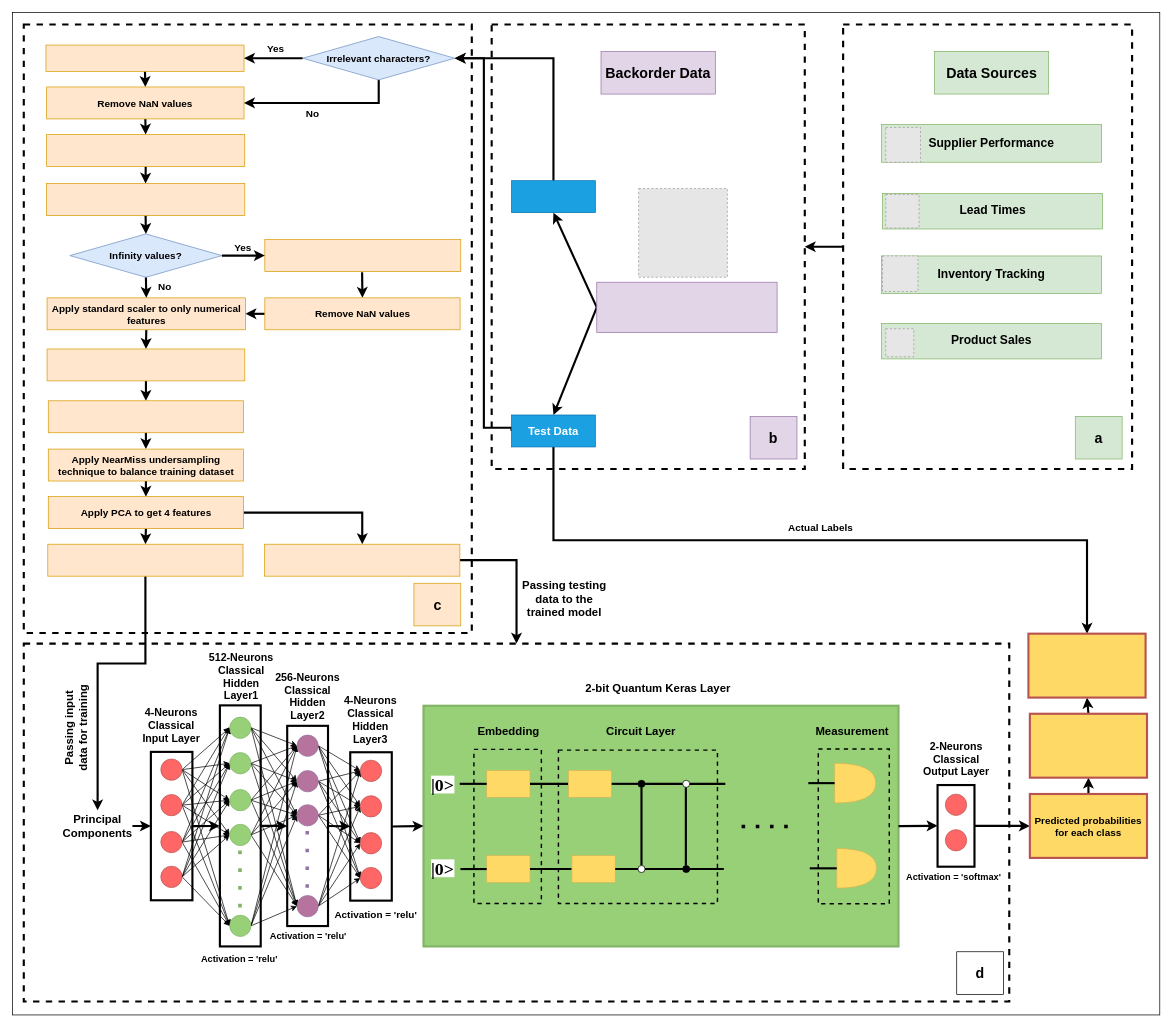
The diagram is 1172 pixels wide and 1027 high, and some of its shapes have lost their labels. Grey dashed boxes stand in for pictures. The centre of each missing label's shape, as x and y in pixels:
"Apply log transformation to only numerical features" belongs at (145,199).
"Apply VIF treatment to only numerical features" belongs at (145,364).
"Classification Reports and ROC score" belongs at (1086,665).
"Convert categorical features to numerical features" belongs at (145,150).
"Inventory Management Data Warehouse" belongs at (686,307).
"Predicted labels for each class" belongs at (1088,745).
"Remove features having multicollinearities" belongs at (146,416).
"Replace 'infinity' with NaN values" belongs at (362,255).
"Replace irrelevant characters with NaN values" belongs at (144,57).
"Testing PCs" belongs at (362,560).
"Training Data" belongs at (553,196).
"Training PCs" belongs at (145,560).
